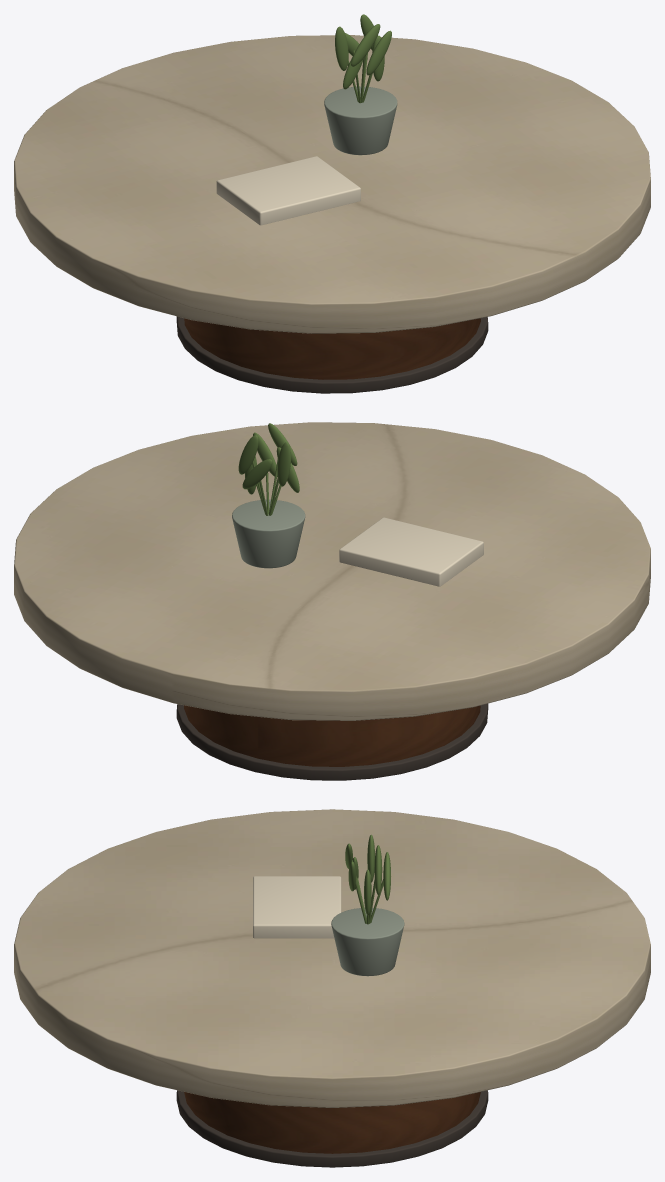
File: coffee-v1.glb
3 views of the same model, one above another, from view 1: azimuth 30°, elevation 25°; view 2: azimuth 150°, elevation 25°; view 3: azimuth 270°, elevation 25° (orthographic).
Visible parts, largest first — view 1: Stone beveled table top; view 2: Stone beveled table top; view 3: Stone beveled table top.
Boxes of the visible parts, <box> form: Stone beveled table top: <box>14,14,650,393</box>; Stone beveled table top: <box>14,422,650,780</box>; Stone beveled table top: <box>14,809,650,1167</box>.
Size of the model in its own units: 1.8 by 0.8868 by 1.8.
7 materials, 2 textured.
